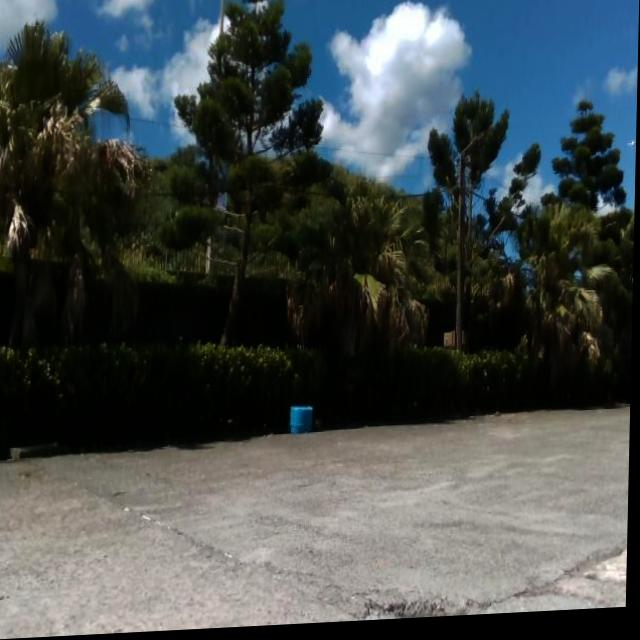pollute: (290, 406, 318, 443)
